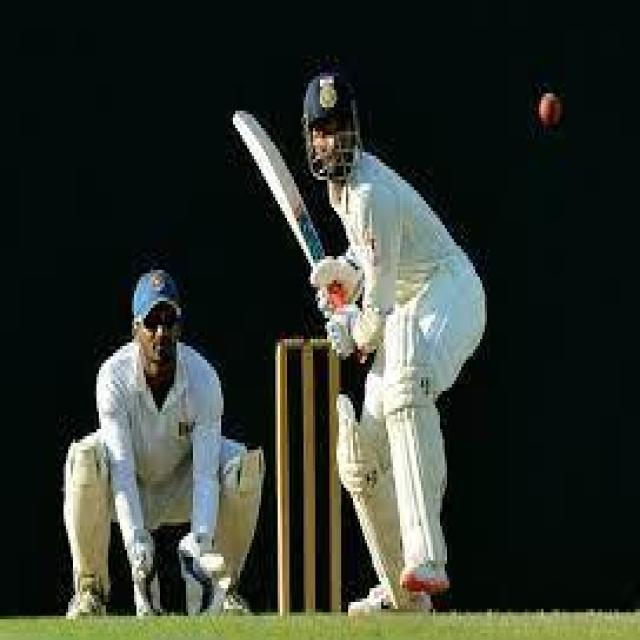bat: (233, 111, 321, 264)
toe: (229, 96, 260, 137)
